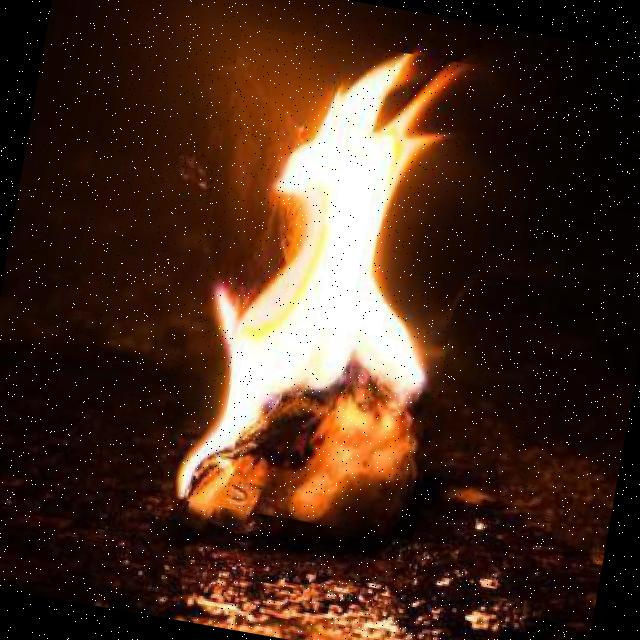fire: (159, 24, 495, 540)
